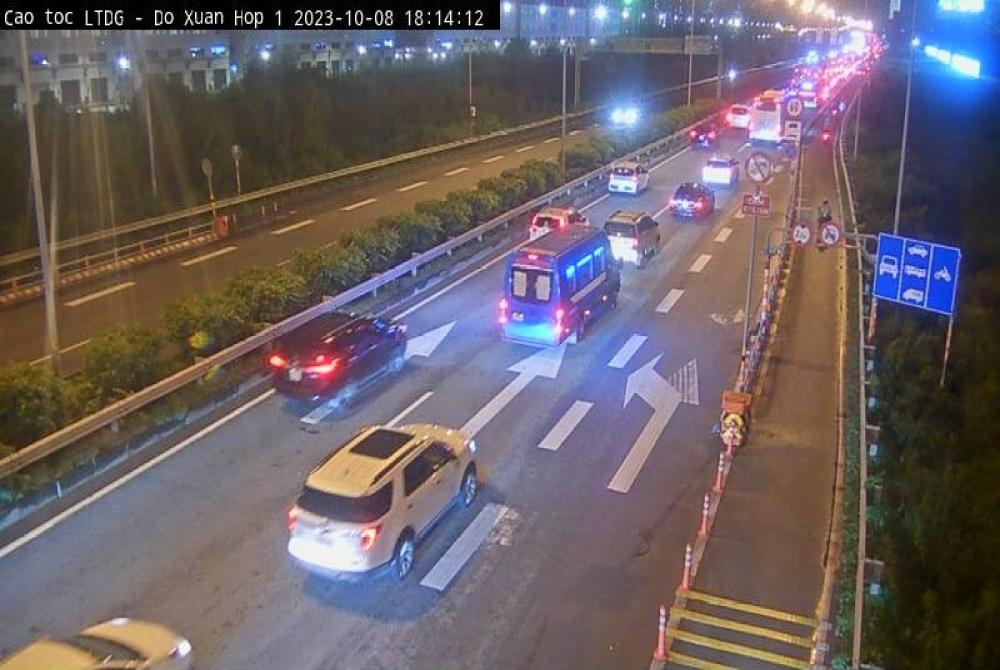car: (285, 424, 484, 604), (488, 220, 623, 356), (268, 308, 410, 408), (605, 198, 660, 272), (674, 177, 708, 232), (526, 197, 574, 233), (610, 161, 648, 206), (708, 150, 735, 187)
